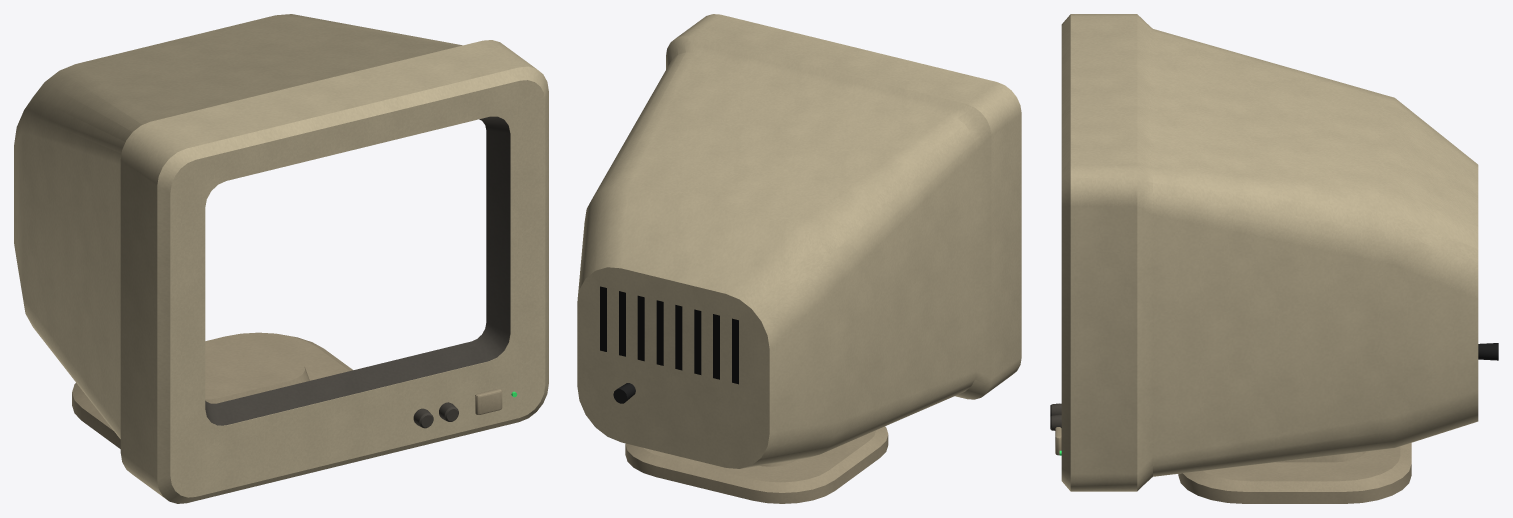
Rendered from crt_monitor.gltf.
The picture shows the model from 3 angles, left to right: view 1: azimuth 30°, elevation 25°; view 2: azimuth 150°, elevation 25°; view 3: azimuth 270°, elevation 25°; orthographic projection. The views are drawn at different scales.
Parts seen in each view (by area): view 1: crt_monitor; view 2: crt_monitor; view 3: crt_monitor.
Boxes of the visible parts, left/top/right/bottom form: crt_monitor: left=14, top=14, right=548, bottom=503; crt_monitor: left=577, top=14, right=1021, bottom=503; crt_monitor: left=1050, top=14, right=1498, bottom=503.
Bounding box in the file's own units: 0.372 × 0.357 × 0.4041.
6 materials, 3 textured.
